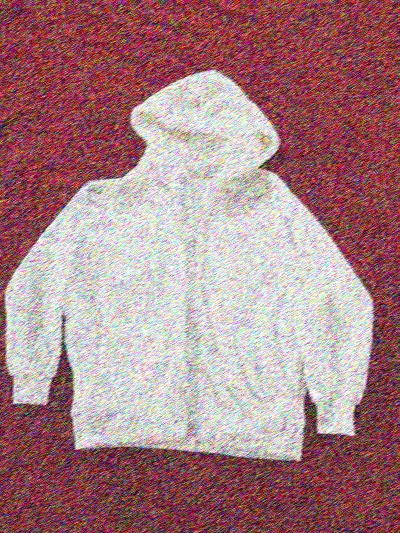Hoodie: (3, 56, 383, 470)
